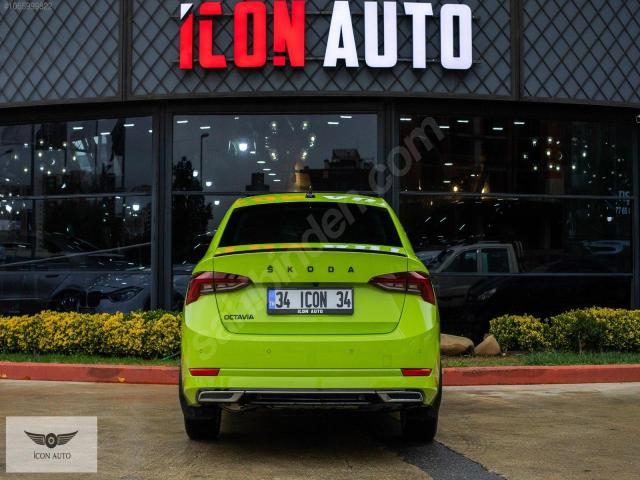plaka: (267, 288, 353, 314)
